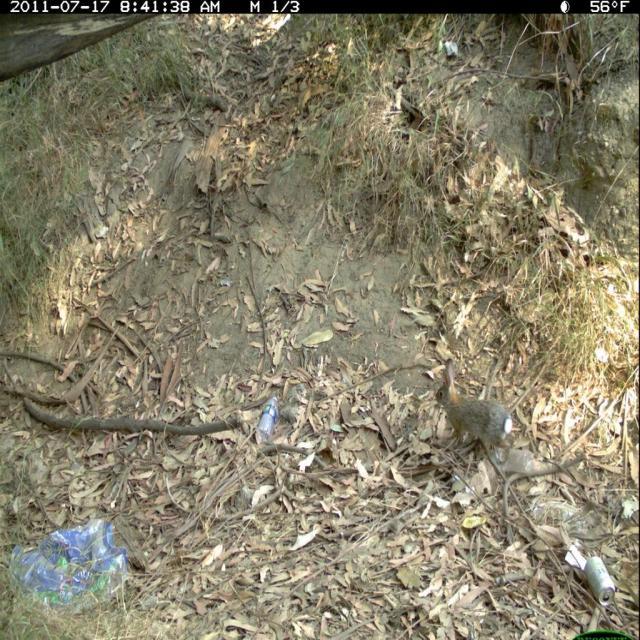rabbit: (432, 357, 520, 466)
